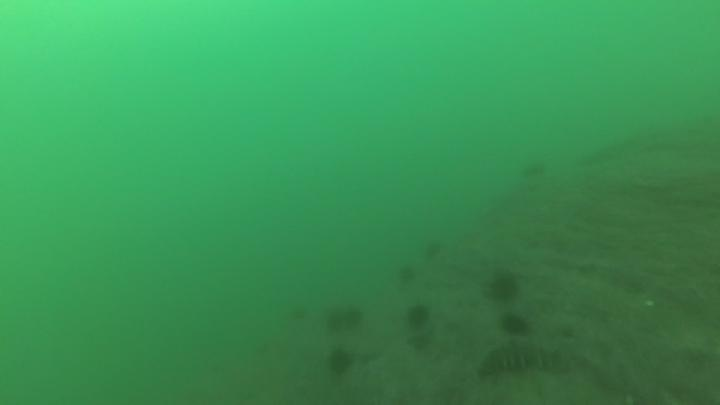echinus: (484, 269, 522, 305), (324, 346, 356, 378), (498, 311, 532, 339), (403, 301, 433, 331), (518, 157, 549, 183), (344, 305, 366, 335), (421, 237, 445, 261), (394, 262, 419, 285), (286, 302, 310, 323), (326, 314, 348, 336)
holothurian: (476, 339, 575, 379)
